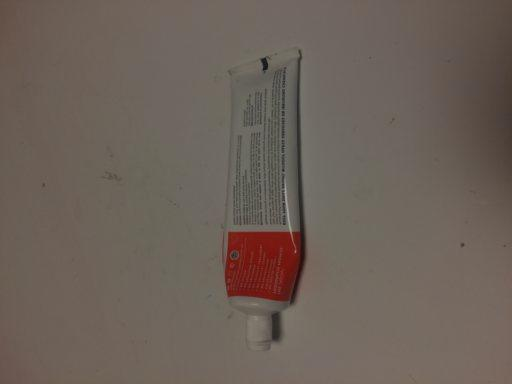trash: (178, 47, 307, 354), (217, 47, 306, 353)
